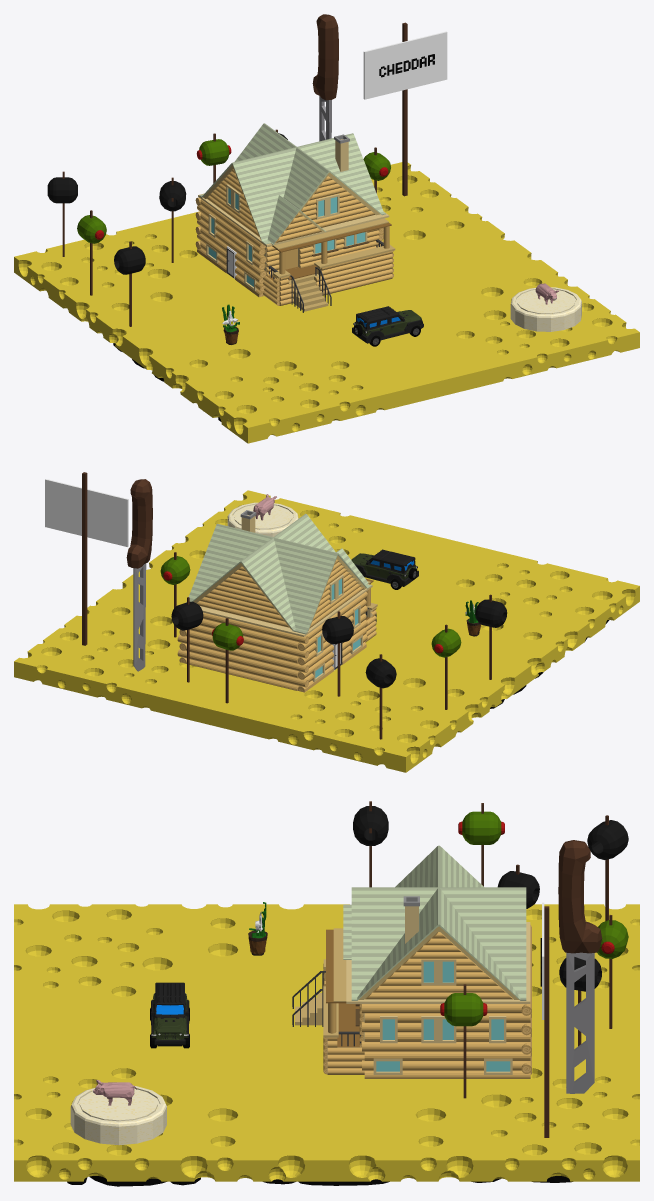
3 views of the same model, one above another, from view 1: azimuth 30°, elevation 25°; view 2: azimuth 150°, elevation 25°; view 3: azimuth 270°, elevation 25° (orthographic). The views are drawn at different scales.
Visible parts, largest first — view 1: Cube.022, Cube.1516, Cube.023, Cylinder.016, Cube.024, VEHICLES_JEEP, Sphere.017, Sphere.016, Sphere.020, Sphere.018, Sphere.022, Sphere.019; view 2: Cube.022, Cube.1516, Cube.023, Cube.024, VEHICLES_JEEP, Cylinder.016, Sphere.020, Sphere.016, Sphere.022, Sphere.017, Sphere.021, Sphere.018 (+1 smaller); view 3: Cube.022, Cube.1516, Cube.024, Cylinder.016, VEHICLES_JEEP, Cube.023, Sphere.019, Sphere.016, Sphere.018, Curve.014, Sphere.017, Sphere.022 (+4 smaller).
Boxes of the visible parts, x1=… form: Cube.022: x1=14, y1=162, x2=639, y2=443; Cube.1516: x1=195, y1=123, x2=395, y2=312; Cube.023: x1=363, y1=22, x2=447, y2=196; Cylinder.016: x1=510, y1=287, x2=581, y2=331; Cube.024: x1=312, y1=14, x2=338, y2=141; VEHICLES_JEEP: x1=352, y1=306, x2=423, y2=346; Sphere.017: x1=114, y1=241, x2=145, y2=326; Sphere.016: x1=47, y1=171, x2=77, y2=256; Sphere.020: x1=159, y1=177, x2=186, y2=262; Sphere.018: x1=77, y1=210, x2=106, y2=295; Sphere.022: x1=196, y1=133, x2=231, y2=183; Sphere.019: x1=363, y1=147, x2=390, y2=193; Cube.022: x1=14, y1=490, x2=639, y2=772; Cube.1516: x1=177, y1=510, x2=377, y2=692; Cube.023: x1=45, y1=472, x2=128, y2=645; Cube.024: x1=126, y1=479, x2=152, y2=671; VEHICLES_JEEP: x1=351, y1=549, x2=418, y2=589; Cylinder.016: x1=227, y1=502, x2=298, y2=536; Sphere.020: x1=322, y1=611, x2=353, y2=696; Sphere.016: x1=365, y1=654, x2=396, y2=739; Sphere.022: x1=212, y1=618, x2=243, y2=703; Sphere.017: x1=475, y1=594, x2=507, y2=679; Sphere.021: x1=171, y1=597, x2=203, y2=682; Sphere.018: x1=431, y1=624, x2=461, y2=709; Cube.022: x1=14, y1=904, x2=639, y2=1181; Cube.1516: x1=292, y1=845, x2=531, y2=1078; Cube.024: x1=558, y1=840, x2=602, y2=1093; Cylinder.016: x1=70, y1=1086, x2=166, y2=1145; VEHICLES_JEEP: x1=150, y1=982, x2=189, y2=1048; Cube.023: x1=540, y1=902, x2=549, y2=1137; Sphere.019: x1=440, y1=984, x2=487, y2=1098; Sphere.016: x1=587, y1=815, x2=628, y2=920; Sphere.018: x1=458, y1=803, x2=504, y2=886; Curve.014: x1=67, y1=1176, x2=572, y2=1186; Sphere.017: x1=353, y1=801, x2=388, y2=887; Sphere.022: x1=597, y1=915, x2=628, y2=1028.
Size of the model in its own units: 3917 by 1980 by 4000.
Materials: 40 (4 with a texture image).
